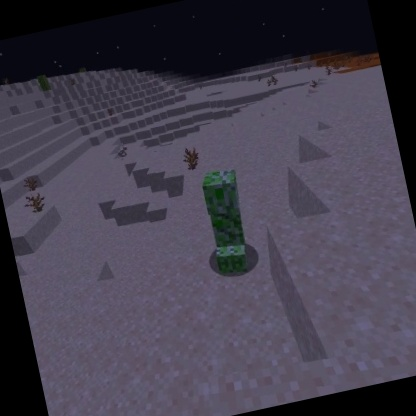creeper: (191, 164, 260, 283)
